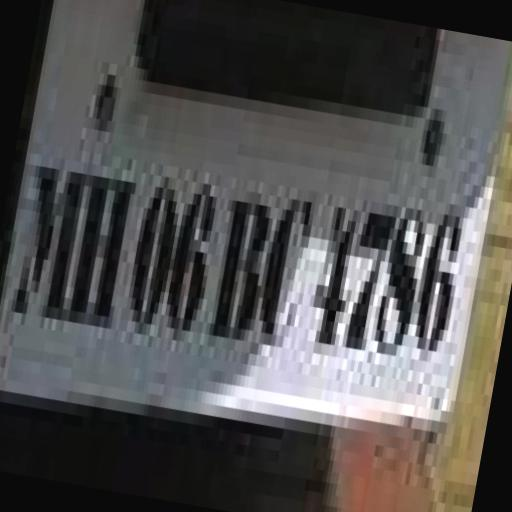number plate: (0, 49, 510, 458)
